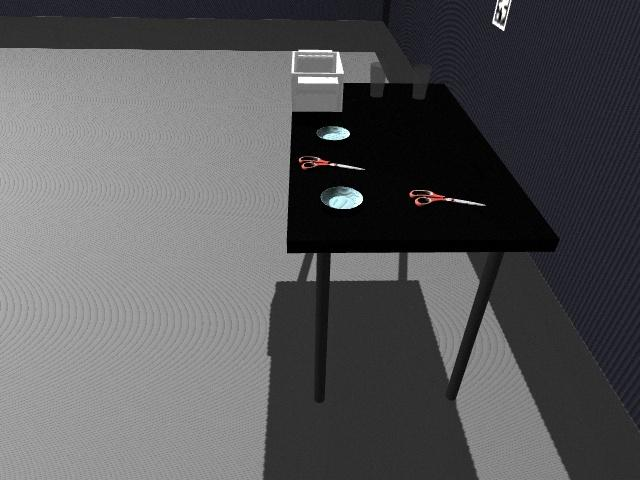cup: (412, 64, 431, 101), (370, 61, 387, 99)
plate: (318, 186, 364, 210), (316, 125, 351, 141)
scissors: (410, 187, 486, 208), (299, 155, 364, 172)
